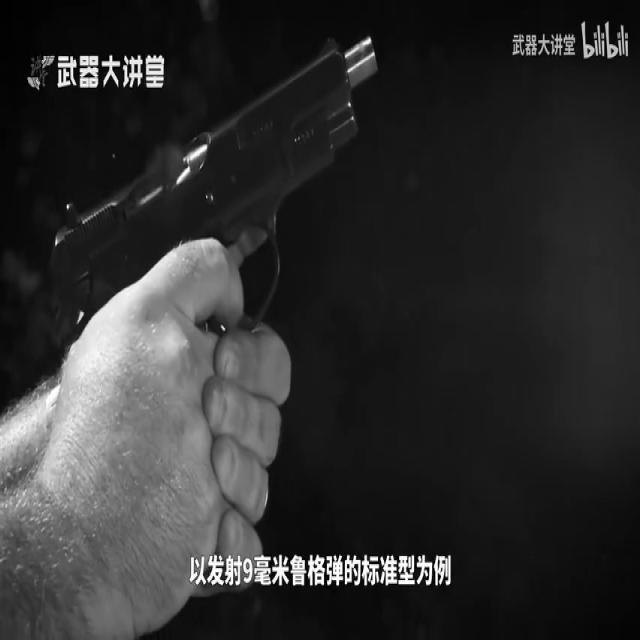Hand-Gun: (46, 20, 391, 422)
